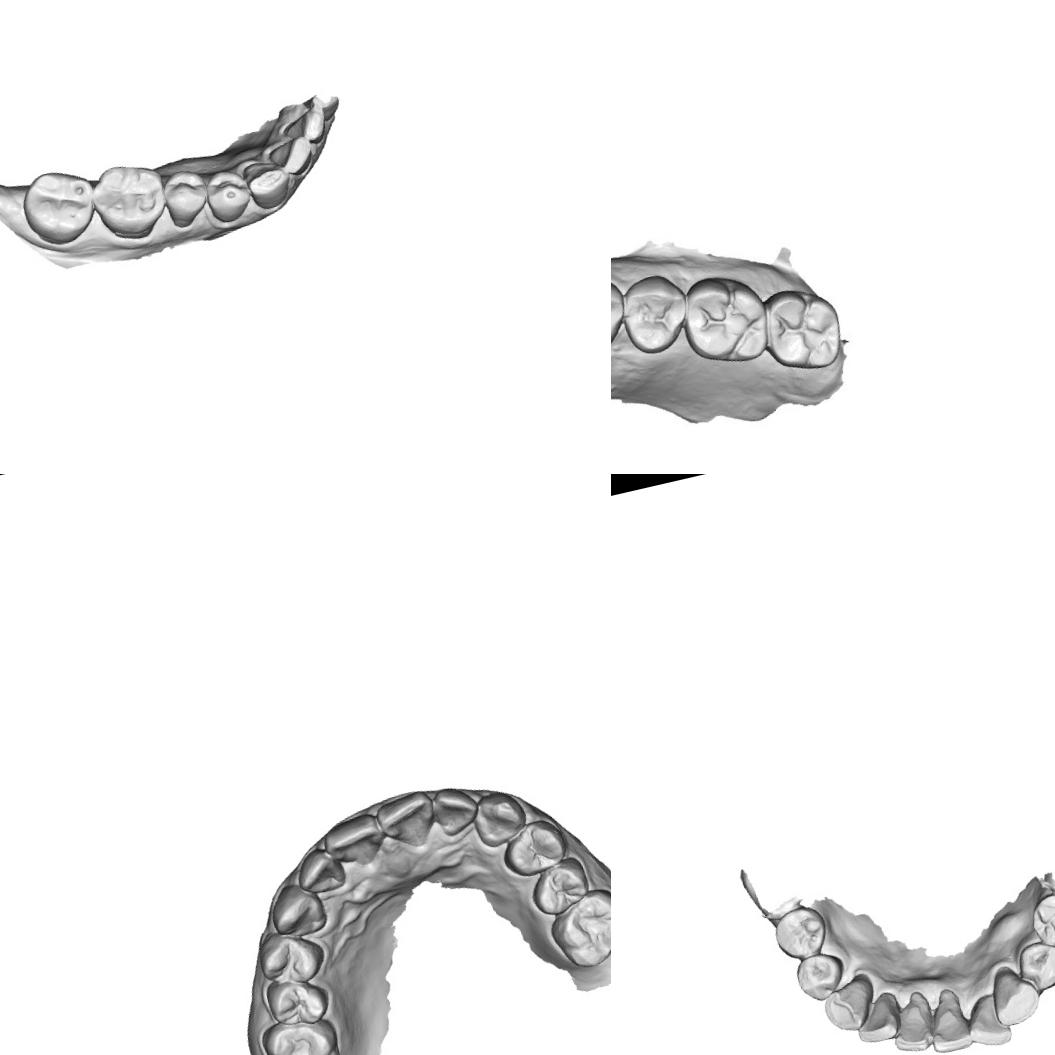canine: (263, 876, 331, 944), (466, 784, 532, 852), (984, 960, 1044, 1030), (818, 975, 882, 1037), (240, 154, 298, 214)
incisor: (370, 786, 442, 856), (318, 810, 388, 875), (960, 988, 1014, 1052), (290, 844, 350, 900), (428, 780, 484, 840), (849, 990, 905, 1047), (885, 996, 939, 1055), (923, 995, 975, 1055), (276, 102, 331, 151), (265, 133, 319, 180)
molar: (678, 266, 774, 365), (758, 280, 846, 380), (86, 156, 174, 249), (15, 162, 104, 253), (542, 883, 611, 975), (256, 1010, 347, 1055)
premolar: (618, 271, 693, 358), (251, 923, 329, 992), (495, 814, 573, 882), (523, 853, 594, 920), (262, 969, 334, 1034), (768, 901, 832, 965), (158, 164, 216, 230), (200, 162, 256, 226), (790, 948, 850, 1006), (1013, 935, 1055, 995), (611, 268, 633, 358), (1026, 887, 1055, 953)
